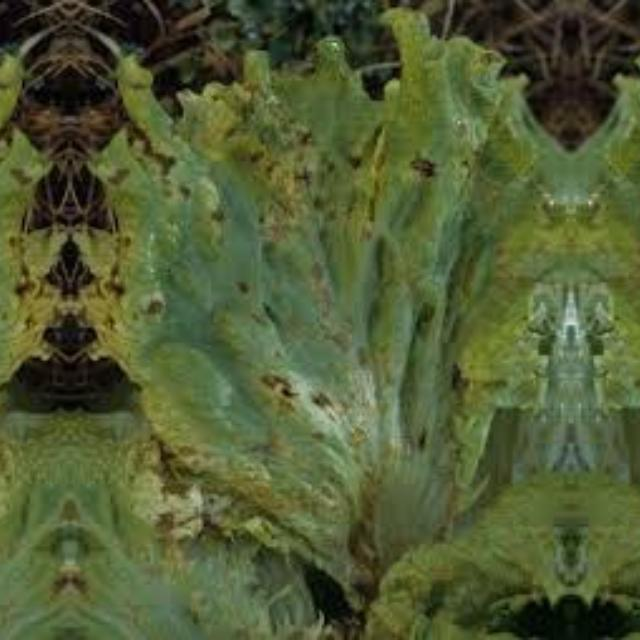Downy_mildew: (94, 35, 570, 602), (571, 35, 640, 602), (0, 35, 44, 602)
